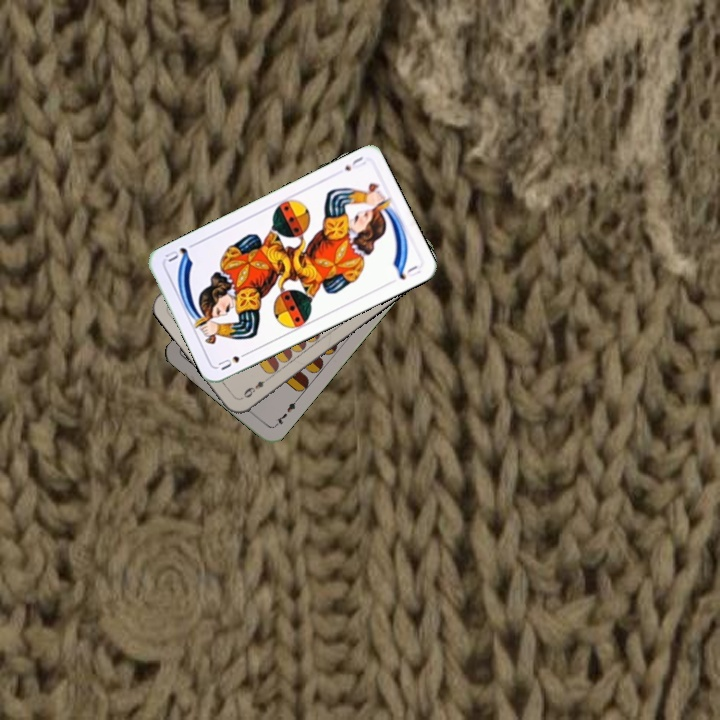E7: (271, 395, 301, 429)
E9: (239, 373, 272, 400)
SU: (214, 347, 252, 373), (341, 152, 369, 174)
